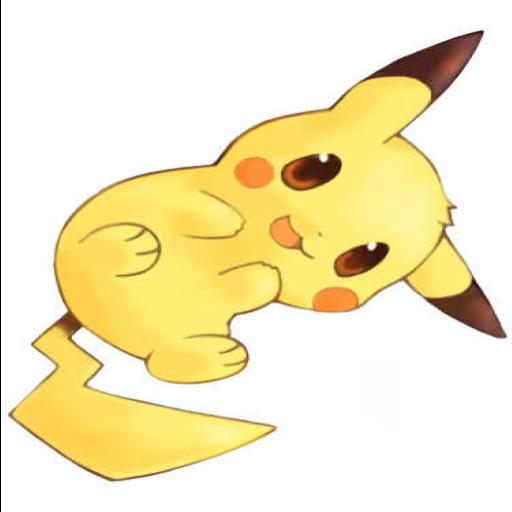Pikachu: (8, 30, 508, 482)
